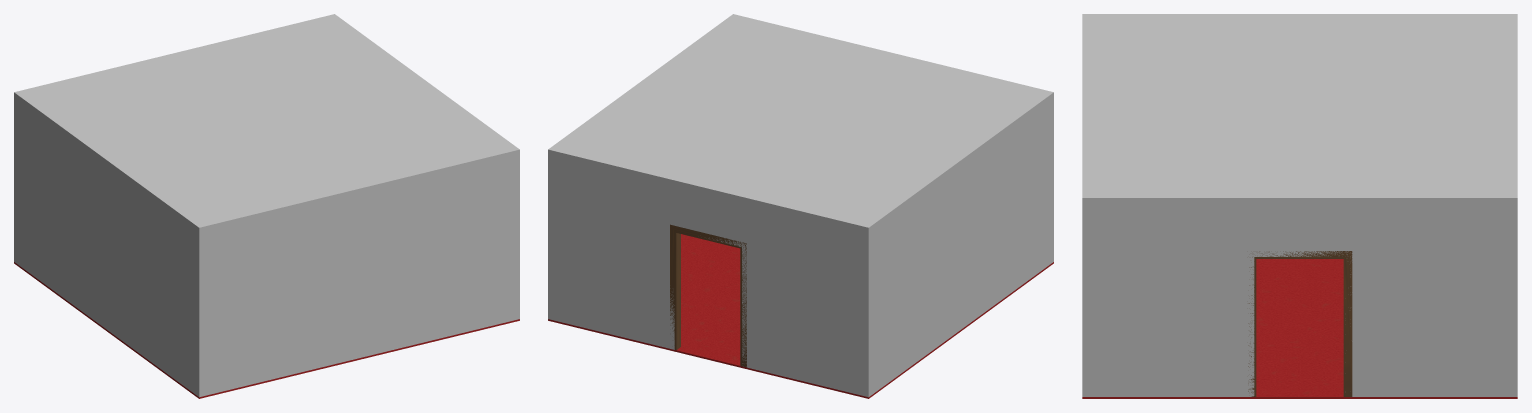
File: 1x1_hotel_room_bend_pos_x_neg_z.obj
3 renders of one model, left to right at view 1: azimuth 30°, elevation 25°; view 2: azimuth 150°, elevation 25°; view 3: azimuth 270°, elevation 25°, orthographic. The views are drawn at different scales.
Parts seen in each view (by area): view 1: 1x1_hotel_room_bend_pos_x_neg_z; view 2: 1x1_hotel_room_bend_pos_x_neg_z; view 3: 1x1_hotel_room_bend_pos_x_neg_z.
Boxes of the visible parts, x1,y1,x2,y2 form: 1x1_hotel_room_bend_pos_x_neg_z: (14, 14, 519, 398); 1x1_hotel_room_bend_pos_x_neg_z: (548, 14, 1053, 398); 1x1_hotel_room_bend_pos_x_neg_z: (1082, 14, 1517, 398).
Size of what is drawn, in the model's own units: 20 by 10.2 by 20.
